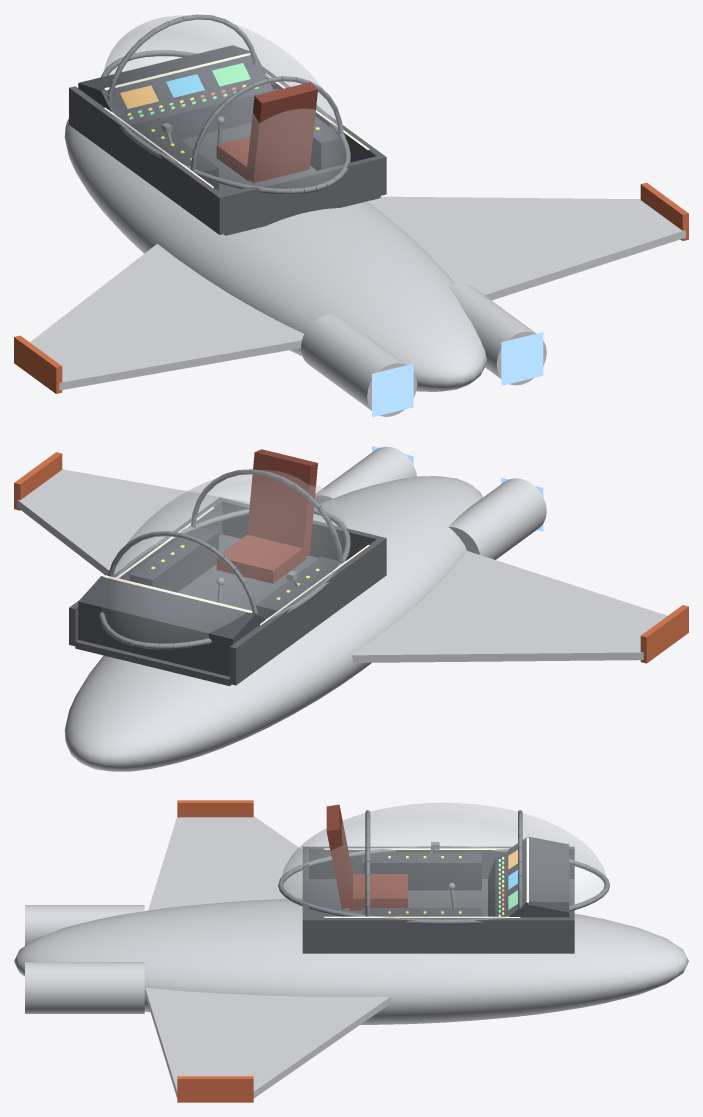
The model's file is cockpit.glb.
3 views of the same model, one above another, from view 1: azimuth 30°, elevation 25°; view 2: azimuth 150°, elevation 25°; view 3: azimuth 270°, elevation 25° (orthographic). The views are drawn at different scales.
Parts seen in each view (by area): view 1: Wings, Fuselage, Canopy, Floor, Dashboard, Engines, Seat, Canopy frame, Engine glow, Wing tips, Light strips; view 2: Fuselage, Wings, Canopy, Dashboard, Floor, Seat, Engines, Canopy frame, Wing tips, Light strips; view 3: Fuselage, Canopy, Wings, Floor, Dashboard, Engines, Seat, Canopy frame, Wing tips, Light strips.
Boxes of the visible parts, left/top/right/bottom form: Wings: left=30, top=196, right=685, bottom=390; Fuselage: left=64, top=118, right=486, bottom=391; Canopy: left=103, top=15, right=347, bottom=188; Floor: left=69, top=66, right=386, bottom=235; Dashboard: left=78, top=45, right=344, bottom=190; Engines: left=301, top=283, right=546, bottom=416; Seat: left=216, top=82, right=317, bottom=183; Canopy frame: left=101, top=14, right=350, bottom=194; Engine glow: left=372, top=332, right=543, bottom=417; Wing tips: left=14, top=182, right=688, bottom=393; Light strips: left=104, top=53, right=369, bottom=187; Fuselage: left=64, top=476, right=482, bottom=771; Wings: left=17, top=469, right=667, bottom=662; Canopy: left=102, top=470, right=347, bottom=643; Dashboard: left=78, top=527, right=338, bottom=676; Floor: left=69, top=497, right=386, bottom=686; Seat: left=216, top=449, right=317, bottom=583; Engines: left=315, top=446, right=546, bottom=559; Canopy frame: left=99, top=469, right=350, bottom=649; Wing tips: left=14, top=452, right=688, bottom=663; Light strips: left=104, top=507, right=369, bottom=624; Fuselage: left=14, top=898, right=688, bottom=1024; Canopy: left=281, top=803, right=606, bottom=919; Wings: left=145, top=816, right=390, bottom=1098; Floor: left=302, top=846, right=574, bottom=953; Dashboard: left=362, top=836, right=569, bottom=917; Engines: left=25, top=905, right=144, bottom=1013; Seat: left=326, top=804, right=407, bottom=910; Canopy frame: left=278, top=810, right=609, bottom=924; Wing tips: left=177, top=800, right=253, bottom=1102; Light strips: left=324, top=837, right=528, bottom=917.
Bounding box in the file's own units: 6.06 × 1.99 × 6.2.
